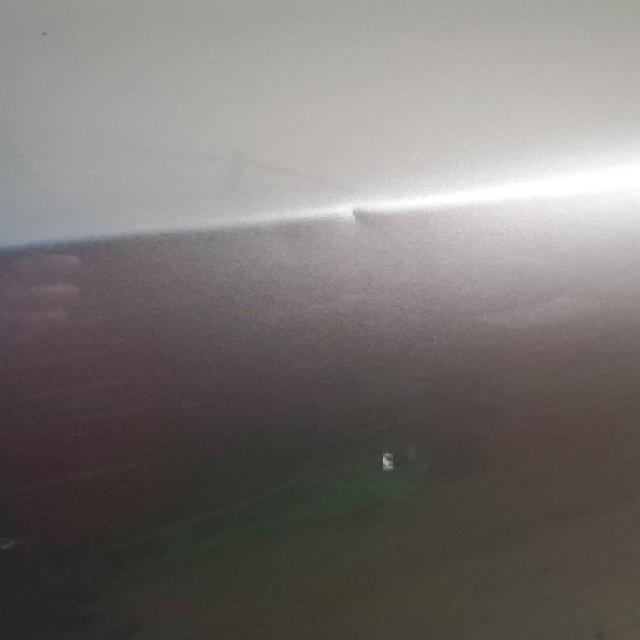dents: (325, 187, 415, 251)
